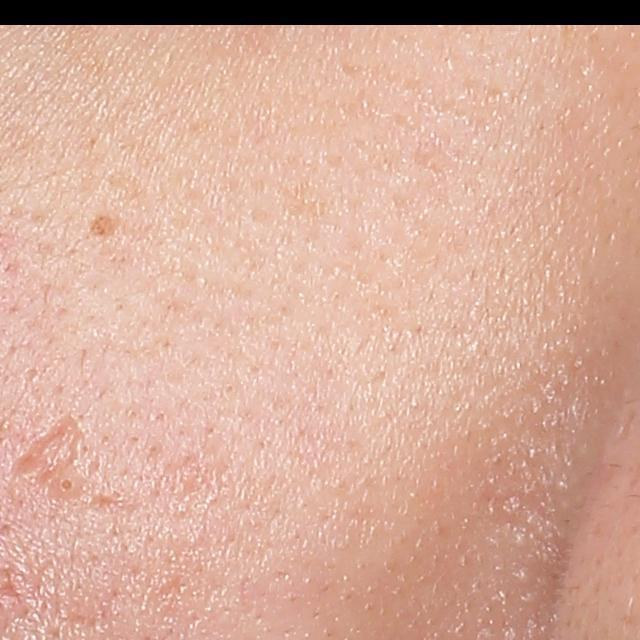atrophic_scar: (5, 412, 86, 485)
comedo: (52, 468, 84, 495)
